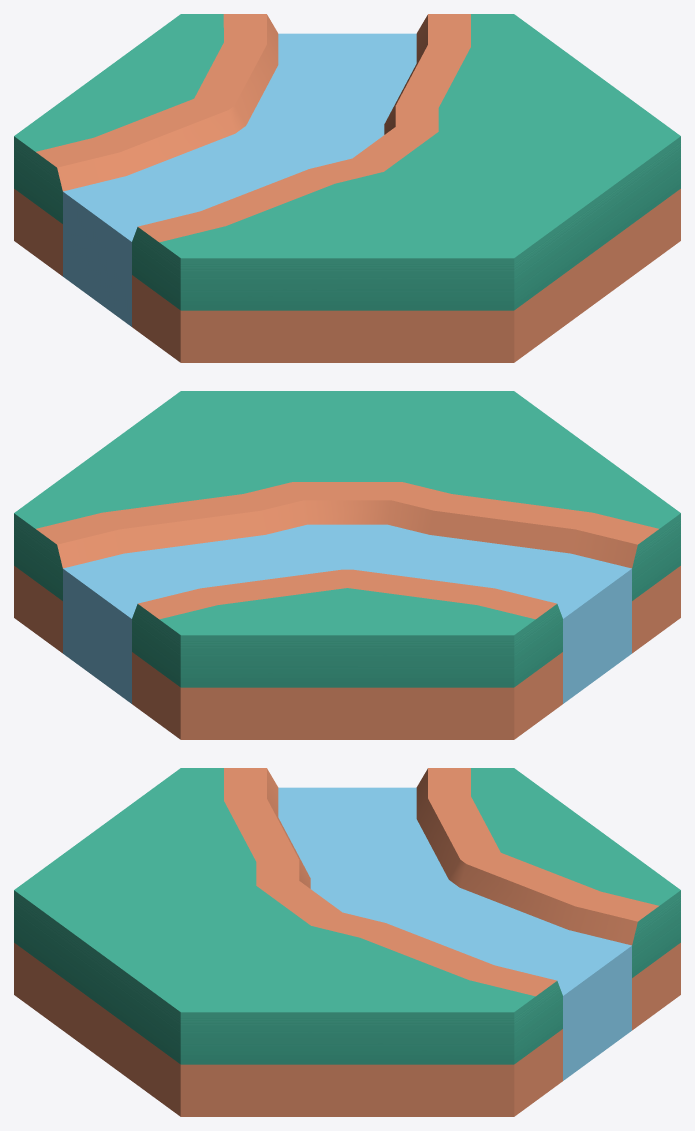
File: river-corner.glb
3 views of the same model, one above another, from view 1: azimuth 30°, elevation 25°; view 2: azimuth 150°, elevation 25°; view 3: azimuth 270°, elevation 25° (orthographic).
Parts seen in each view (by area): view 1: river-corner; view 2: river-corner; view 3: river-corner.
Part boxes in pixels (bbox=[...]): river-corner: bbox=[14, 14, 680, 362]; river-corner: bbox=[14, 391, 680, 739]; river-corner: bbox=[14, 768, 680, 1116].
Size of the model in its own units: 1 by 0.2 by 1.15.
Materials: 1 (1 with a texture image).
